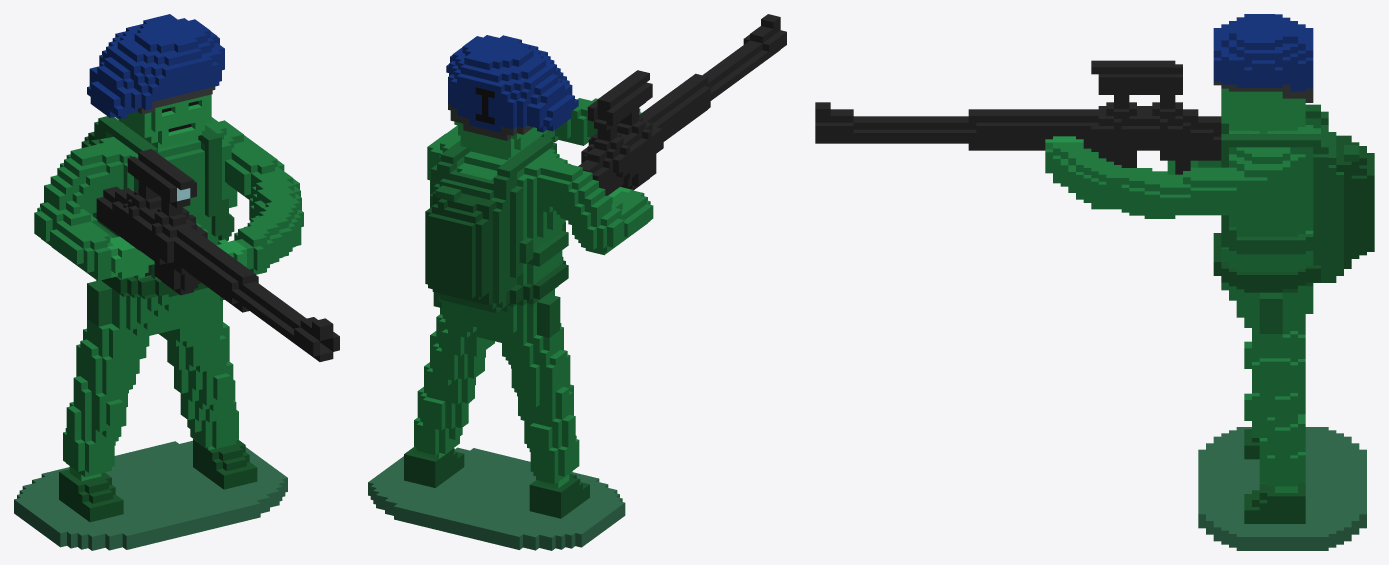
Rendered from snajper_soldier_LVL1_4.0.obj.
The picture shows the model from 3 angles, left to right: view 1: azimuth 30°, elevation 25°; view 2: azimuth 150°, elevation 25°; view 3: azimuth 270°, elevation 25°; orthographic projection. The views are drawn at different scales.
Bounding box in the file's own units: 3.5 × 6.8 × 7.3.
1 material, 1 textured.
